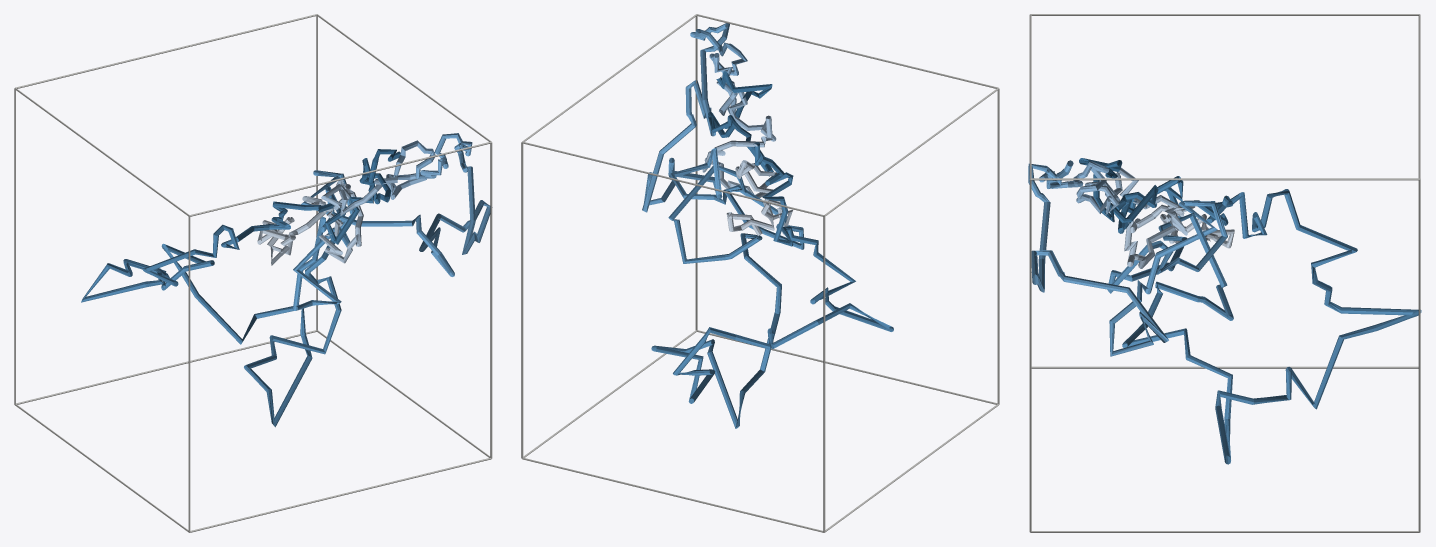
3 views of the same model, side by side, from view 1: azimuth 30°, elevation 25°; view 2: azimuth 150°, elevation 25°; view 3: azimuth 270°, elevation 25° (orthographic). The views are drawn at different scales.
Parts seen in each view (by area): view 1: geometry_0, geometry_1; view 2: geometry_0, geometry_1; view 3: geometry_0, geometry_1.
Part boxes in pixels (x1,y1,x2,y2): geometry_0: [81, 133, 492, 427]; geometry_1: [14, 14, 492, 532]; geometry_0: [642, 23, 893, 428]; geometry_1: [521, 14, 999, 532]; geometry_0: [1028, 158, 1421, 464]; geometry_1: [1029, 14, 1420, 532].
Bounding box in the file's own units: 0.3039 × 0.3042 × 0.3033.
